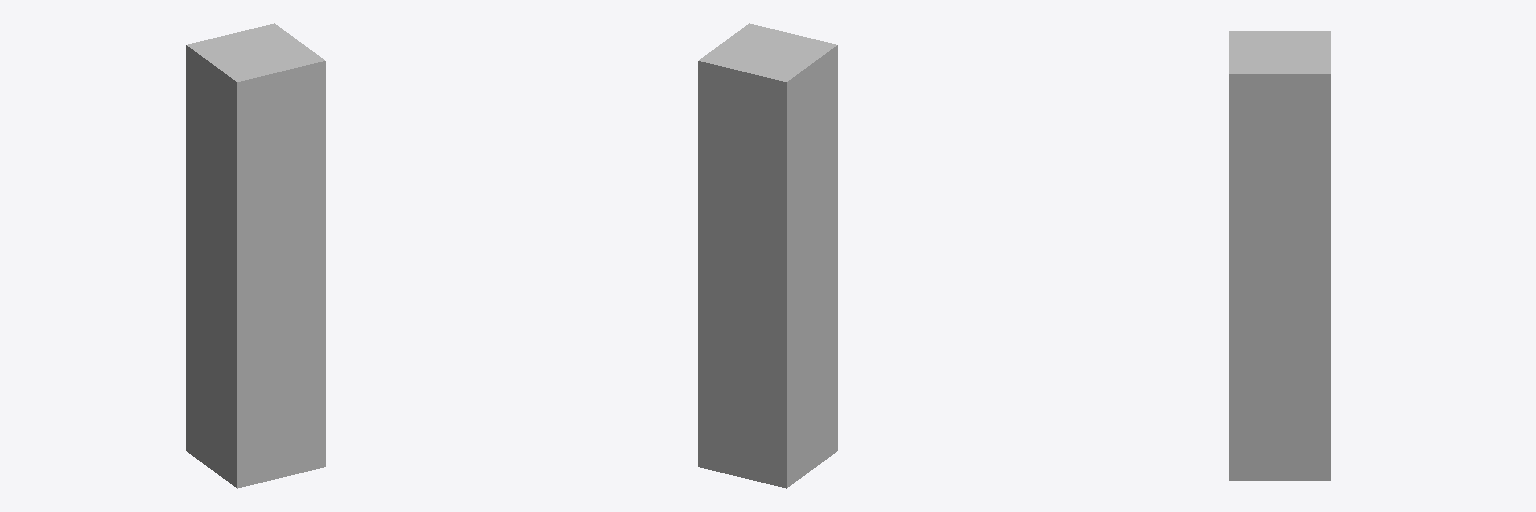
The model's file is lowPolyCityBuilding1.obj.
3 views of the same model, side by side, from view 1: azimuth 30°, elevation 25°; view 2: azimuth 150°, elevation 25°; view 3: azimuth 270°, elevation 25° (orthographic).
Visible parts, largest first — view 1: Cube; view 2: Cube; view 3: Cube.
Boxes of the visible parts, <box> form: Cube: <box>186,23,325,488</box>; Cube: <box>698,23,837,488</box>; Cube: <box>1229,31,1330,480</box>.
Size of the model in its own units: 2 by 8.78 by 2.